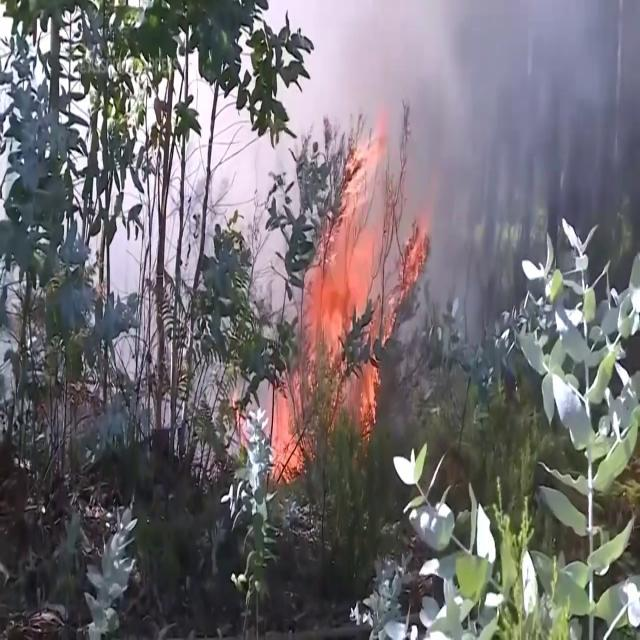Fire: (263, 131, 389, 470)
Smoke: (302, 0, 640, 293)
